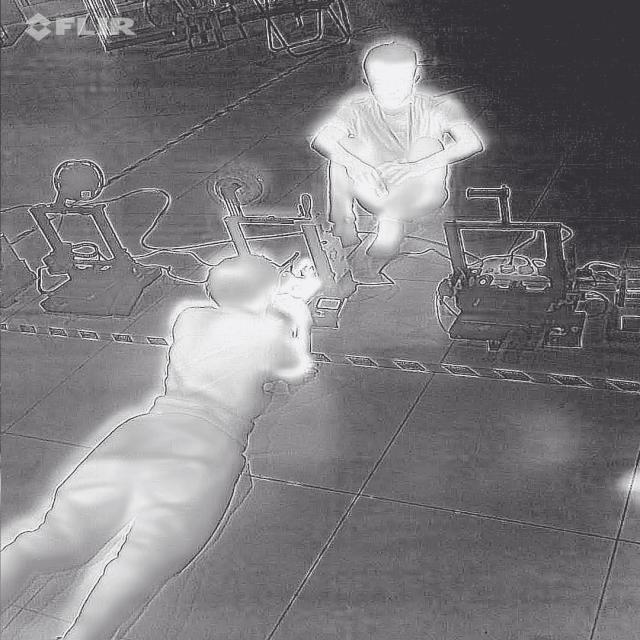Victim: (1, 244, 326, 637), (303, 36, 499, 263)
